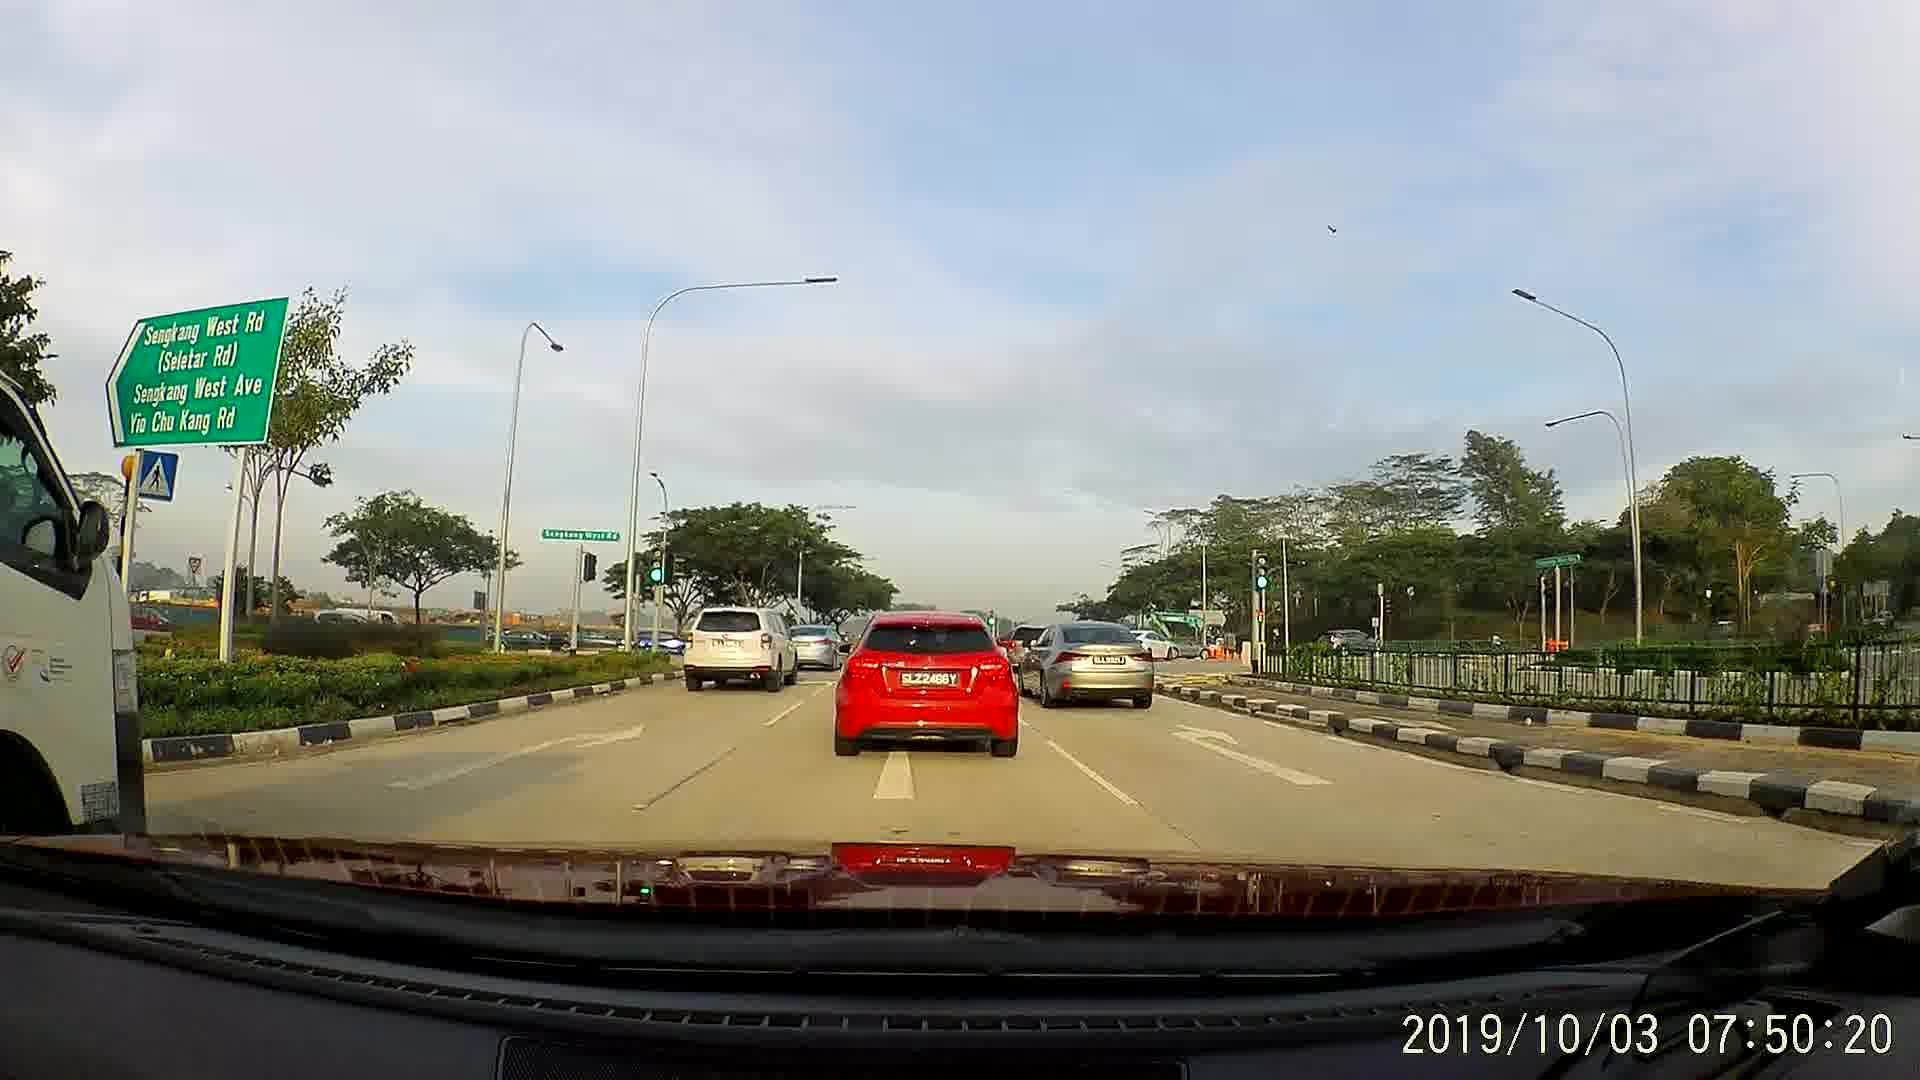car: (0, 369, 160, 828), (829, 599, 1026, 769), (667, 592, 802, 699), (1013, 617, 1156, 713), (781, 617, 849, 678), (1311, 620, 1389, 662), (1160, 626, 1205, 662)
